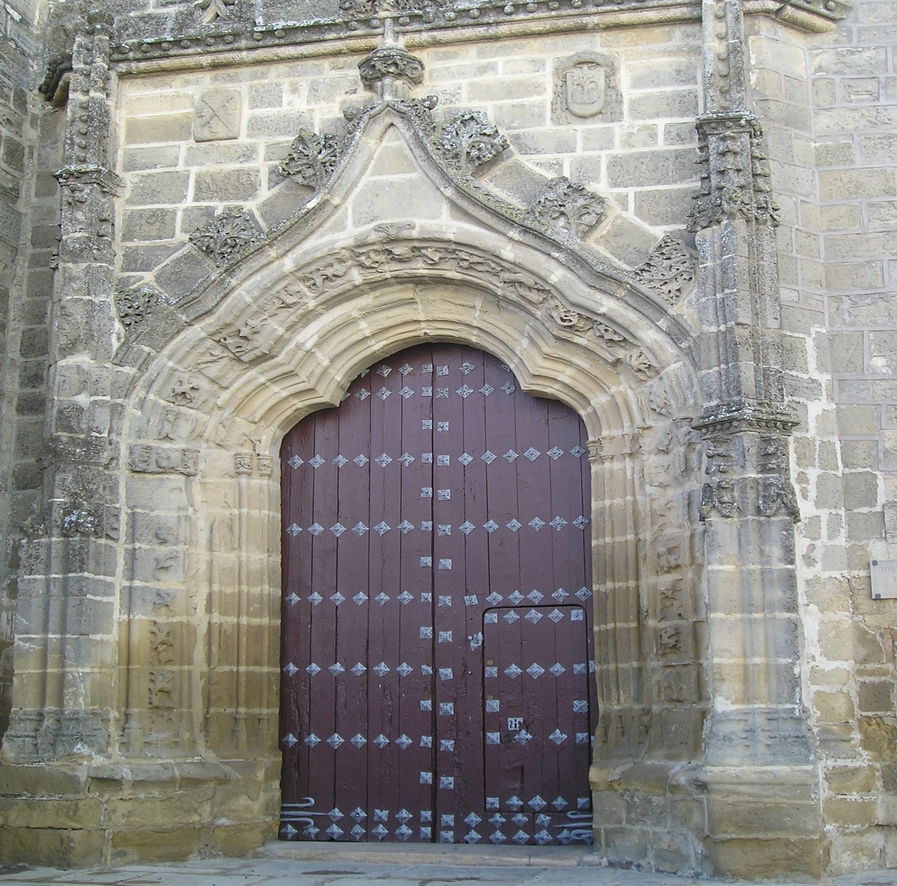arco-trilobulado: (253, 312, 612, 459)
